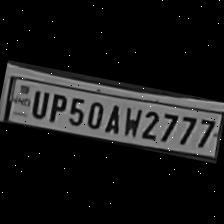0: (82, 96, 107, 131)
2: (137, 106, 162, 142)
5: (63, 92, 88, 128)
7: (191, 114, 217, 150), (155, 109, 180, 143), (174, 112, 198, 147)
A: (100, 100, 124, 134)
P: (44, 88, 70, 124)
U: (26, 86, 51, 120)
W: (119, 102, 143, 138)
